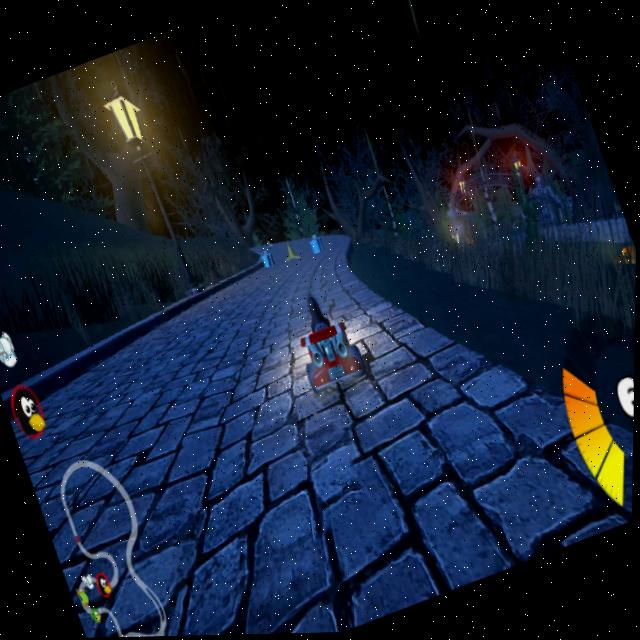bonus: (305, 231, 330, 261), (257, 248, 279, 274)
obstacle: (279, 235, 304, 269)
off_track: (375, 113, 626, 330)
player_kart: (280, 289, 373, 401)
